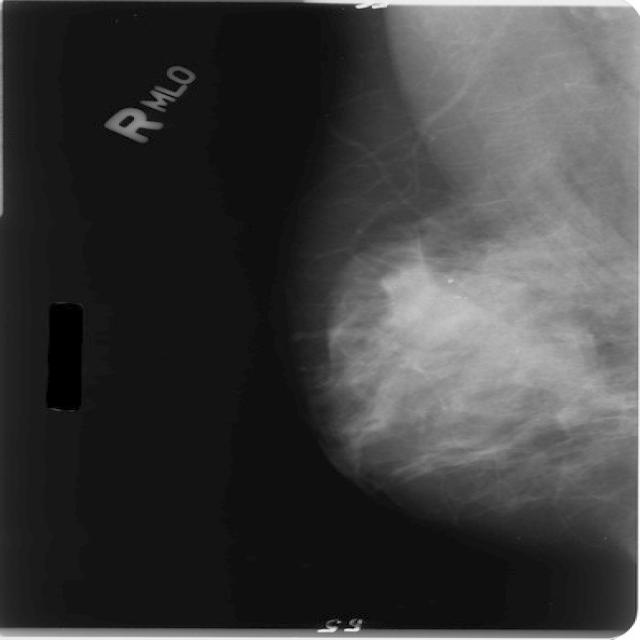tumour: (382, 264, 455, 332)
